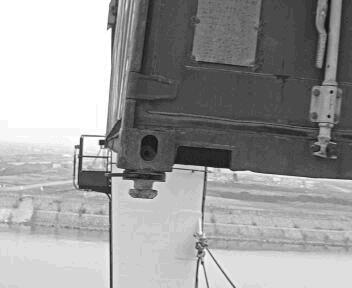twist_lock_1: (117, 166, 172, 208)
